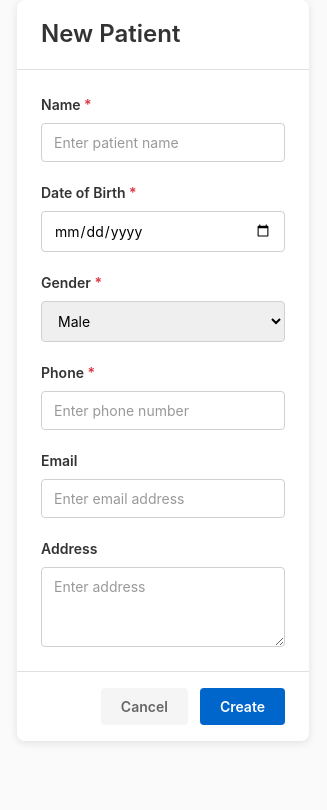
Test: PatientForm Component › Form Submission › should handle generic server error
Type "Jane Smith" into the field labelled "Name *".
click(163, 142); type("Jane Smith")  # box [41, 123, 285, 162]
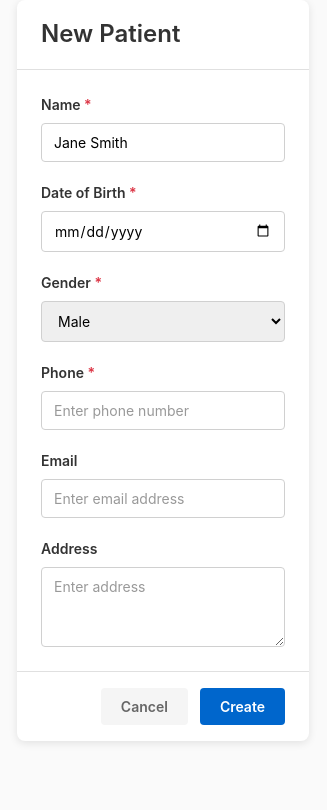
Type "1995-06-20" into the date field labelled "Date of Birth *".
click(163, 231); type("1995-06-20")  # box [41, 211, 285, 252]
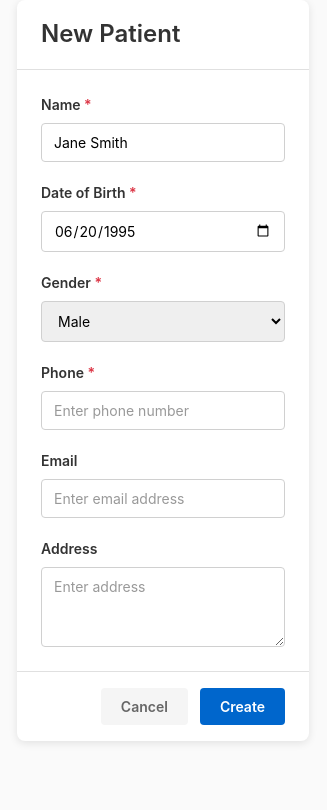
Type "555-020-2020" into the field labelled "Phone *".
click(163, 410); type("555-020-2020")  # box [41, 391, 285, 430]
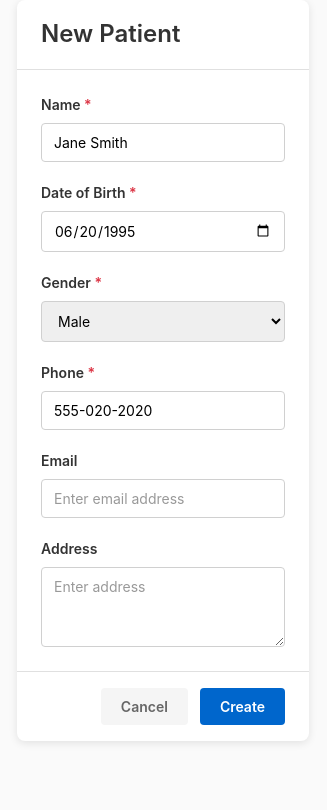
Click the button "Create".
click(242, 706)  # box [200, 688, 285, 725]
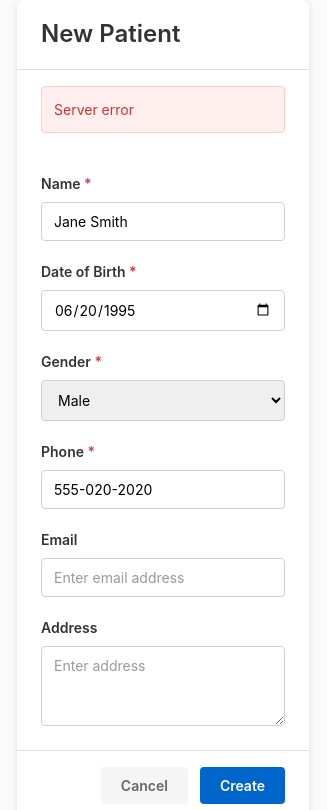
Expected: the text "Server error" is shown, [41, 86, 285, 133]
